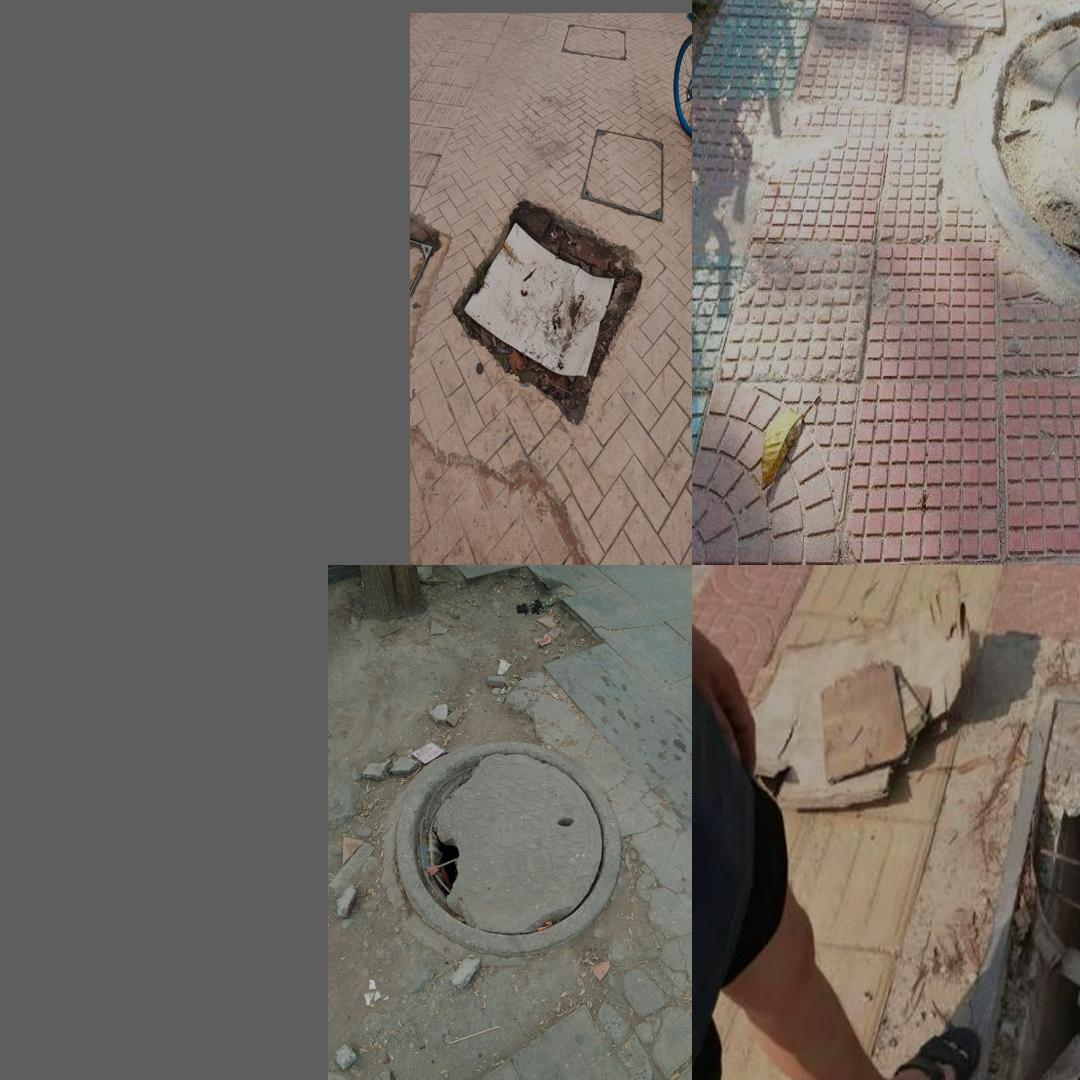broke: (909, 681, 1080, 1080), (447, 184, 649, 441), (394, 740, 622, 959), (971, 0, 1080, 301)
